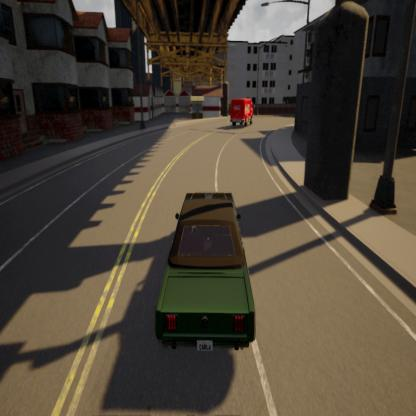Cars: (141, 172, 274, 376), (228, 95, 257, 132)
